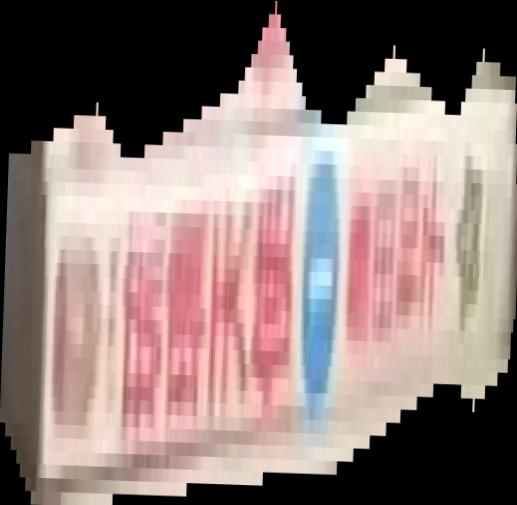flat: (1, 1, 517, 505)
